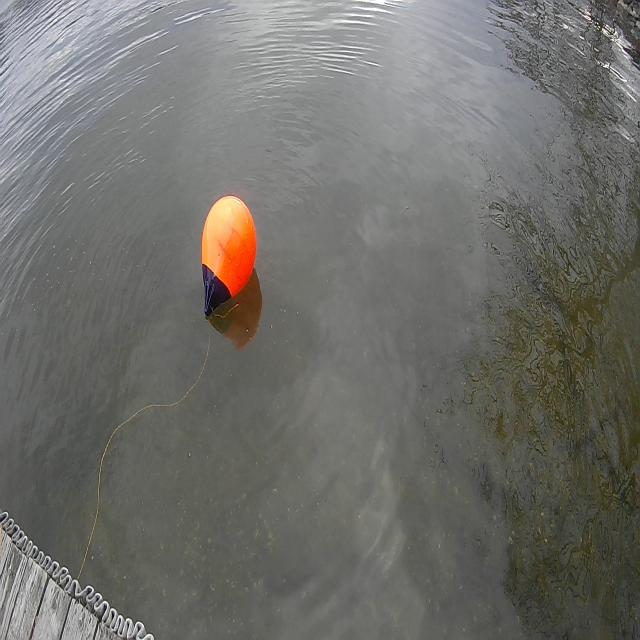Buoy: (198, 190, 258, 300)
